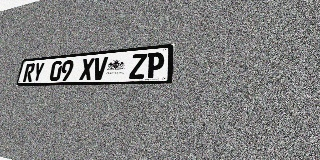plate: (16, 44, 175, 86)
